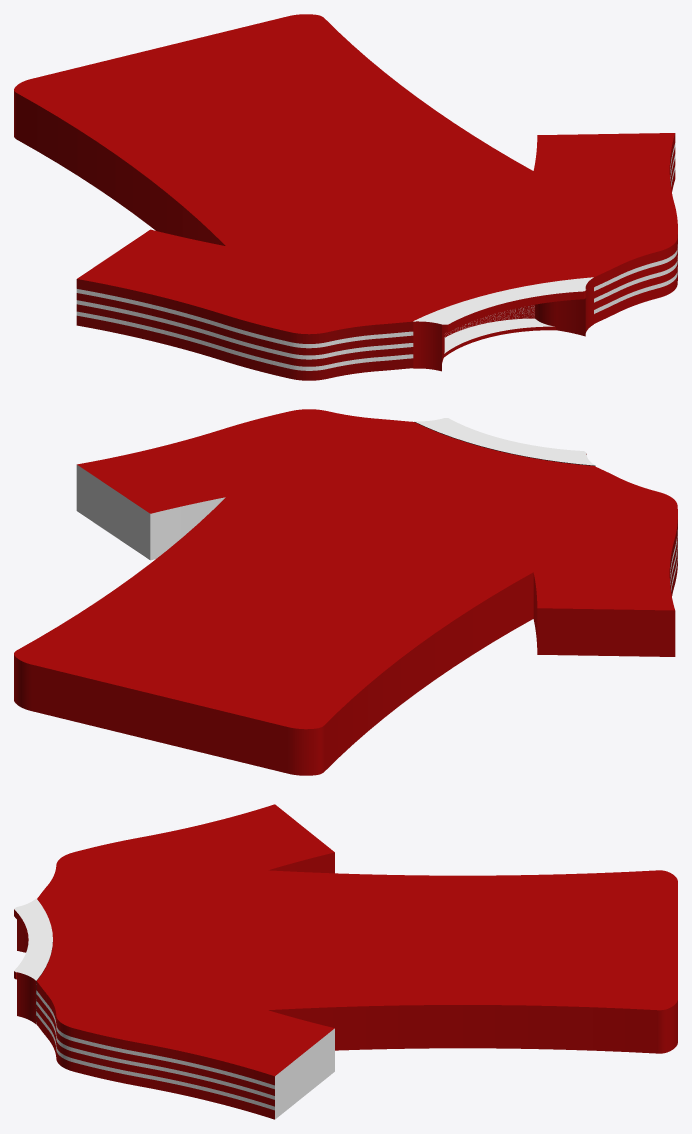
3 views of the same model, one above another, from view 1: azimuth 30°, elevation 25°; view 2: azimuth 150°, elevation 25°; view 3: azimuth 270°, elevation 25° (orthographic). The views are drawn at different scales.
Parts seen in each view (by area): view 1: adidas red sports shirt; view 2: adidas red sports shirt; view 3: adidas red sports shirt.
Part boxes in pixels (bbox=[...]): adidas red sports shirt: bbox=[14, 14, 677, 380]; adidas red sports shirt: bbox=[14, 409, 677, 775]; adidas red sports shirt: bbox=[14, 804, 677, 1119].
Bounding box in the file's own units: 44.56 × 3.35 × 45.96.
